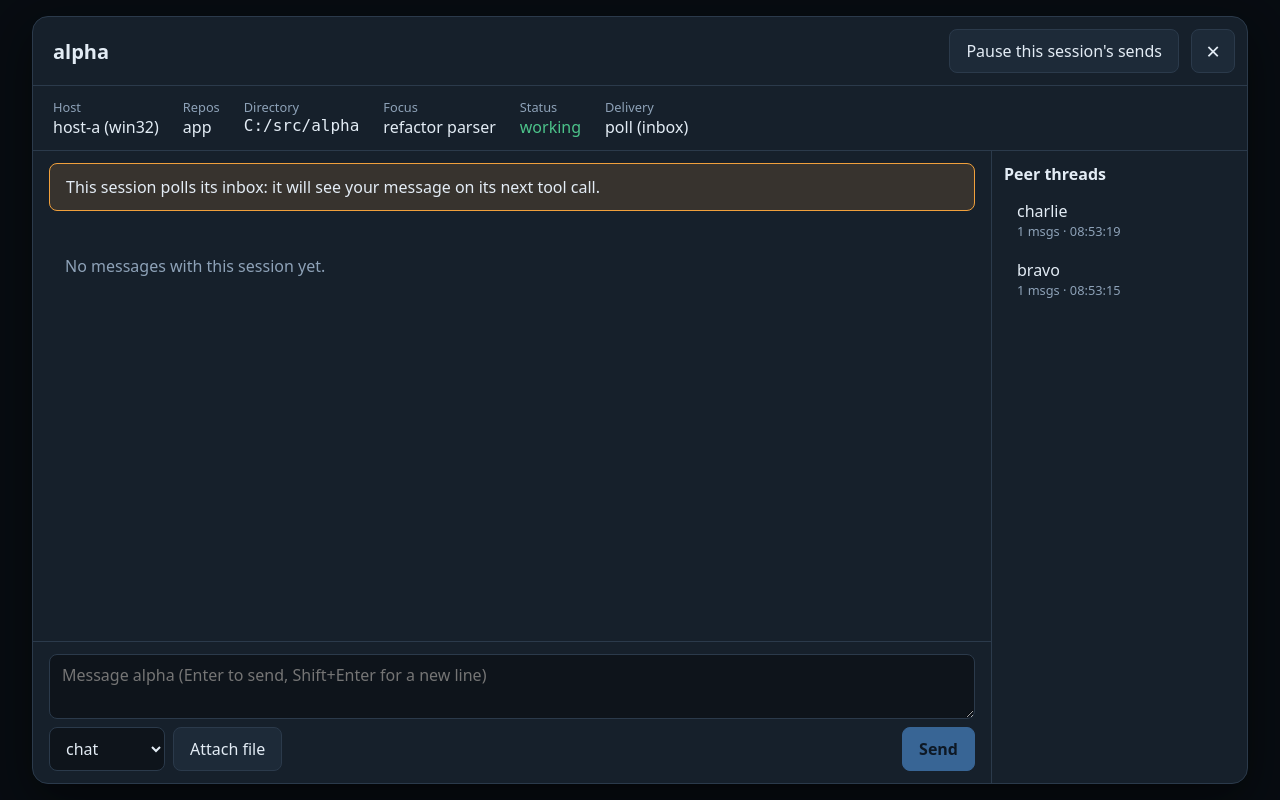
Test case: node chat overlay › opens the thread overlay from the side list
Step 1. Click the button "bravo 1 msgs · 08:53:15" → (1120, 279), box [1004,252,1235,307]
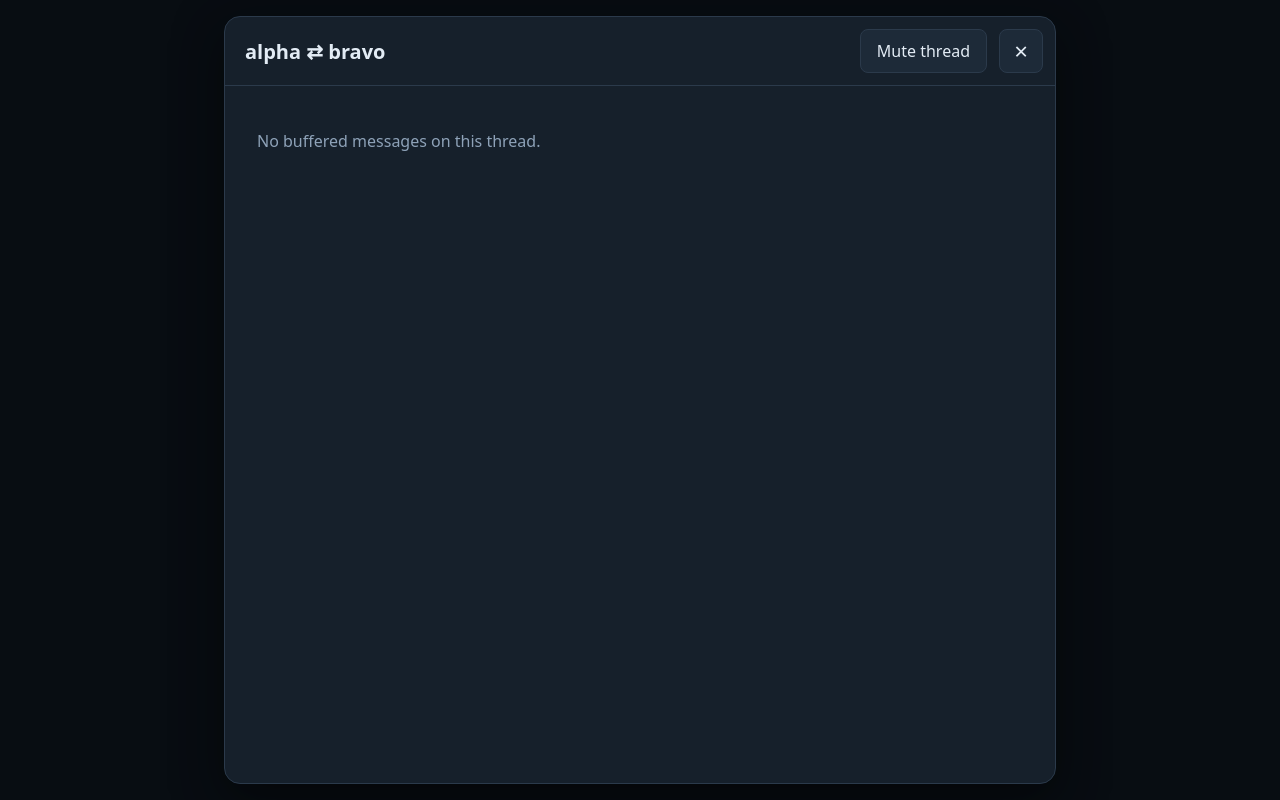
Expected: the dialog "alpha ⇄ bravo" is shown
